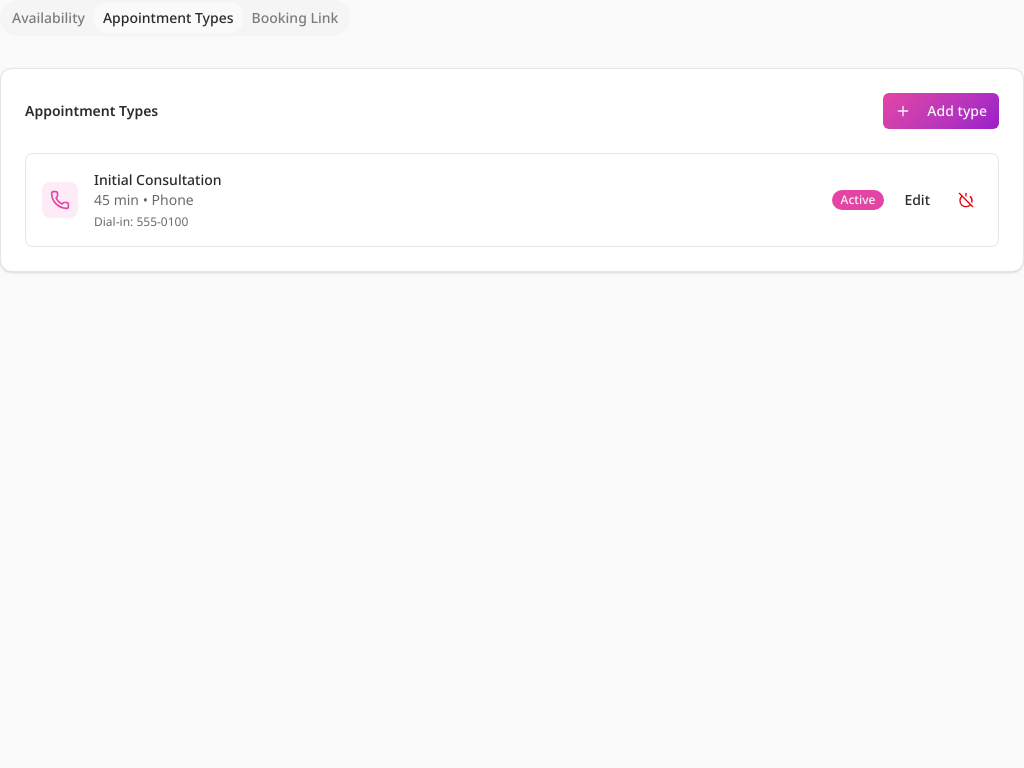
Test: Appointment type client messages and workflows › shows each client message with its switch, template, and reminder timing
Click the button "Edit": (917, 200) x1=892 y1=184 x2=942 y2=216
(page scrolled)
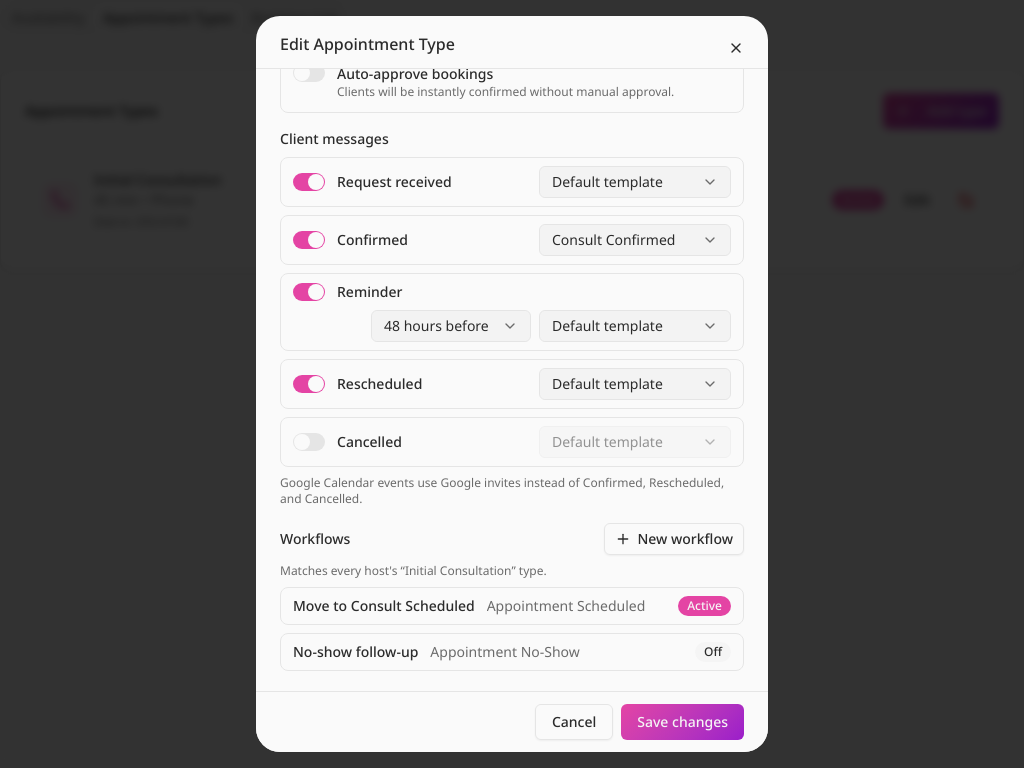
Result: the dropdown named "Confirmed template" shows "Consult Confirmed" at x1=539 y1=224 x2=731 y2=256
Result: the dropdown named "Request received template" shows "Default template" at x1=539 y1=166 x2=731 y2=198
Result: the dropdown named "Reminder timing" shows "48 hours before" at x1=371 y1=310 x2=531 y2=342
